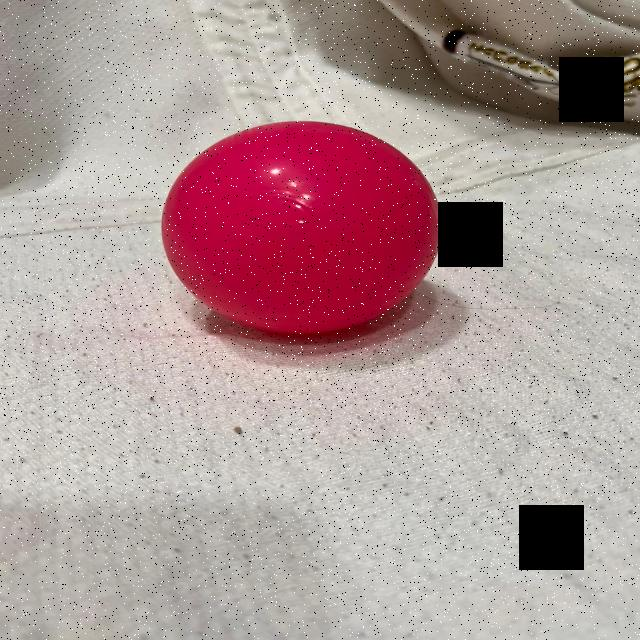ball: (157, 118, 446, 339)
